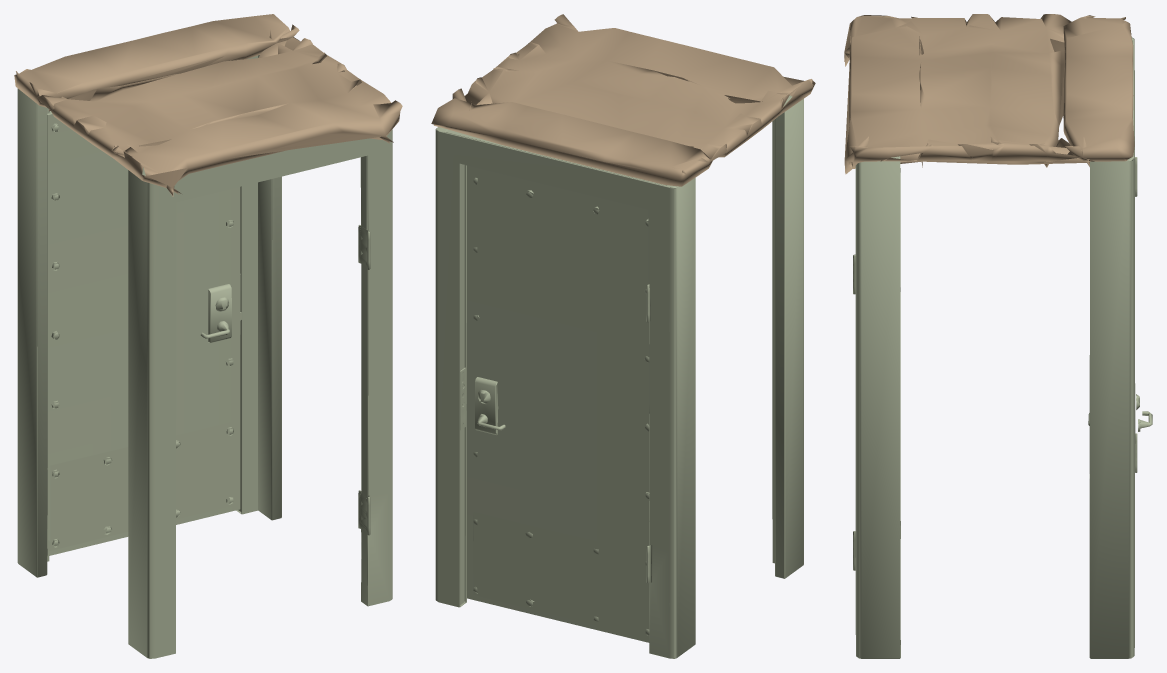
The model's file is door.glb.
The picture shows the model from 3 angles, left to right: view 1: azimuth 30°, elevation 25°; view 2: azimuth 150°, elevation 25°; view 3: azimuth 270°, elevation 25°; orthographic projection. The views are drawn at different scales.
Parts seen in each view (by area): view 1: SM_BuildableDoor_Stage5_01b_LOD0.001, SM_BuildableDoor_Door_Stage_01a_Nanite.002, SM_BuildableDoor_TopSegment_01a_Nanite.001, SM_BuildableDoor_Door_Stage_01a_Nanite.001; view 2: SM_BuildableDoor_Stage5_01b_LOD0.001, SM_BuildableDoor_Door_Stage_01a_Nanite.001, SM_BuildableDoor_TopSegment_01a_Nanite.001, SM_BuildableDoor_Door_Stage_01a_Nanite.002; view 3: SM_BuildableDoor_TopSegment_01a_Nanite.001, SM_BuildableDoor_Door_Stage_01a_Nanite.001, SM_BuildableDoor_Door_Stage_01a_Nanite.002.
Part boxes in pixels (x1,y1,x2,y2): SM_BuildableDoor_Stage5_01b_LOD0.001: (47, 111, 241, 556); SM_BuildableDoor_Door_Stage_01a_Nanite.002: (128, 129, 392, 658); SM_BuildableDoor_TopSegment_01a_Nanite.001: (14, 14, 402, 196); SM_BuildableDoor_Door_Stage_01a_Nanite.001: (17, 55, 281, 577); SM_BuildableDoor_Stage5_01b_LOD0.001: (466, 165, 649, 642); SM_BuildableDoor_Door_Stage_01a_Nanite.001: (435, 127, 695, 658); SM_BuildableDoor_TopSegment_01a_Nanite.001: (431, 14, 815, 186); SM_BuildableDoor_Door_Stage_01a_Nanite.002: (772, 95, 803, 578); SM_BuildableDoor_TopSegment_01a_Nanite.001: (844, 14, 1134, 174); SM_BuildableDoor_Door_Stage_01a_Nanite.001: (1089, 37, 1137, 658); SM_BuildableDoor_Door_Stage_01a_Nanite.002: (853, 156, 900, 658).
Size of the model in its own units: 1.67 by 3.03 by 1.64.
